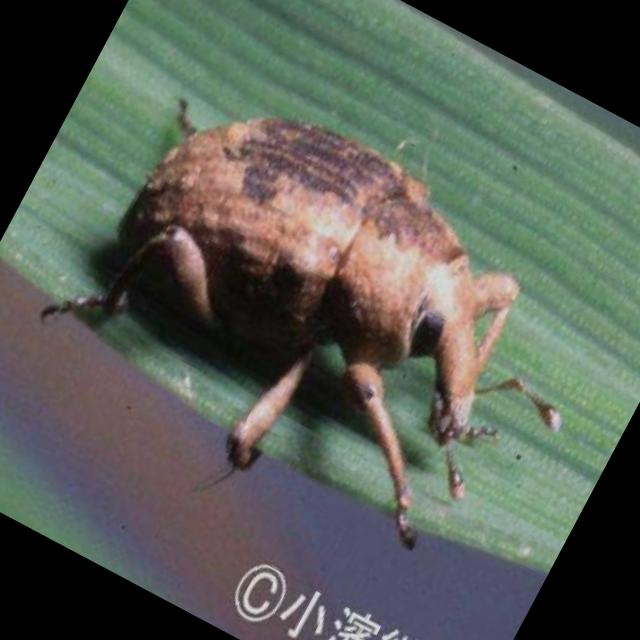rice-bug: (56, 51, 572, 518)
